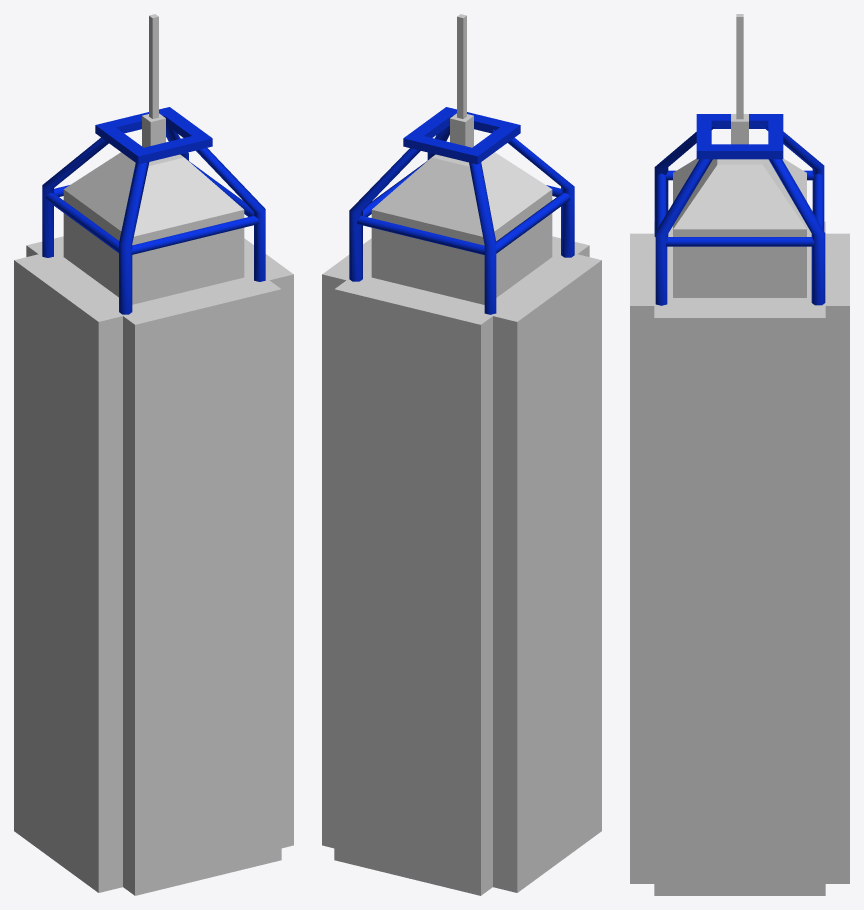
File: Skyscrapers_4.fbx
3 renders of one model, left to right at view 1: azimuth 30°, elevation 25°; view 2: azimuth 150°, elevation 25°; view 3: azimuth 270°, elevation 25°, orthographic.
Visible parts, largest first — view 1: Skyscrapers_4; view 2: Skyscrapers_4; view 3: Skyscrapers_4.
Part boxes in pixels (x1=…): Skyscrapers_4: x1=14, y1=14, x2=293, y2=895; Skyscrapers_4: x1=322, y1=14, x2=601, y2=895; Skyscrapers_4: x1=630, y1=14, x2=849, y2=895.
Bounding box in the file's own units: 854 × 3438 × 823.
